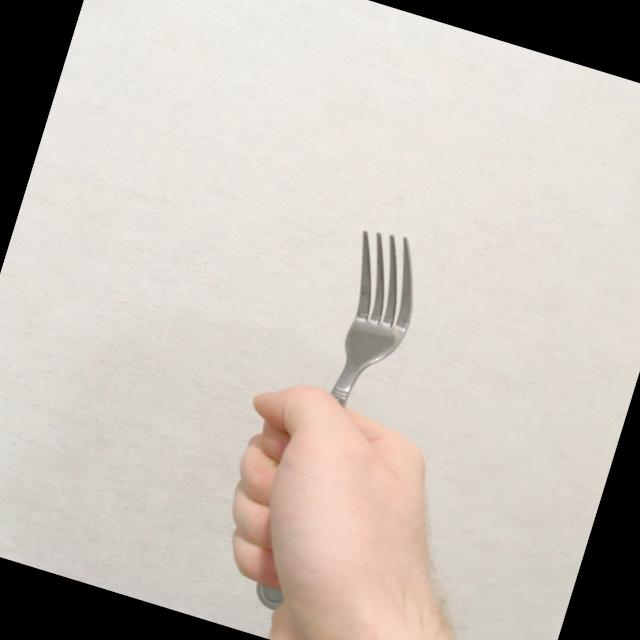fork: (237, 220, 437, 640)
